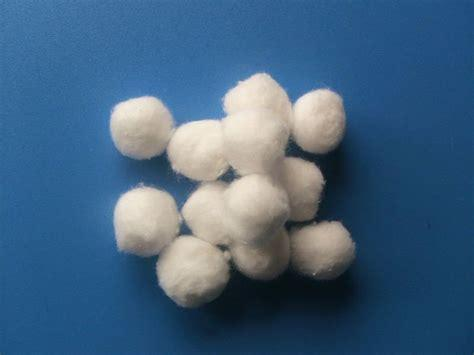cotton: (222, 174, 290, 247), (114, 184, 181, 256), (154, 239, 228, 304), (222, 72, 293, 137), (221, 107, 285, 174), (110, 94, 173, 161), (167, 118, 232, 182), (269, 152, 323, 221), (282, 222, 353, 273), (293, 90, 346, 154), (182, 184, 231, 246), (227, 231, 276, 280)
